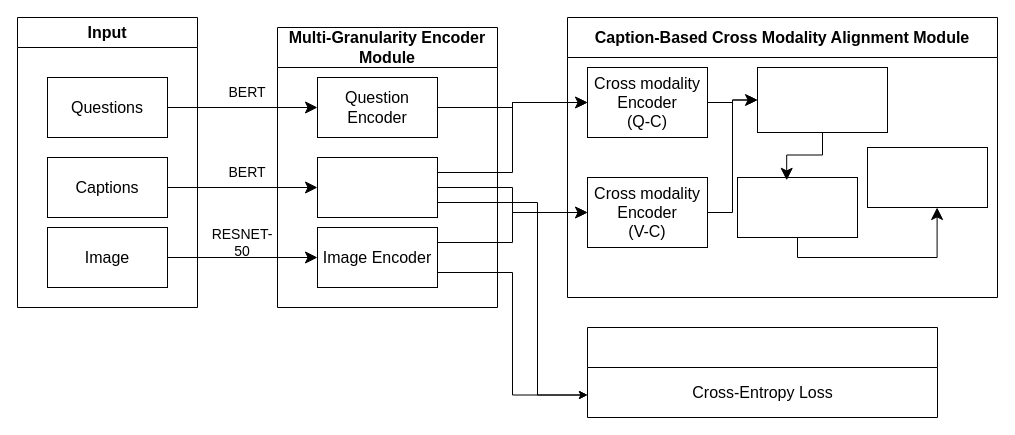
Image size: 1015x435. Some labels were removed from this diagram. The box of each missing label's shape, as (x1, y1, x2, y2) in pixels:
"ANSWER": (866, 146, 988, 208)
Caption Encoder: (316, 156, 438, 218)
Caption modality Encoder (Q-V): (756, 66, 888, 132)
Contrastive Learning Module: (586, 326, 938, 418)
MLP Classifier: (736, 176, 858, 238)
